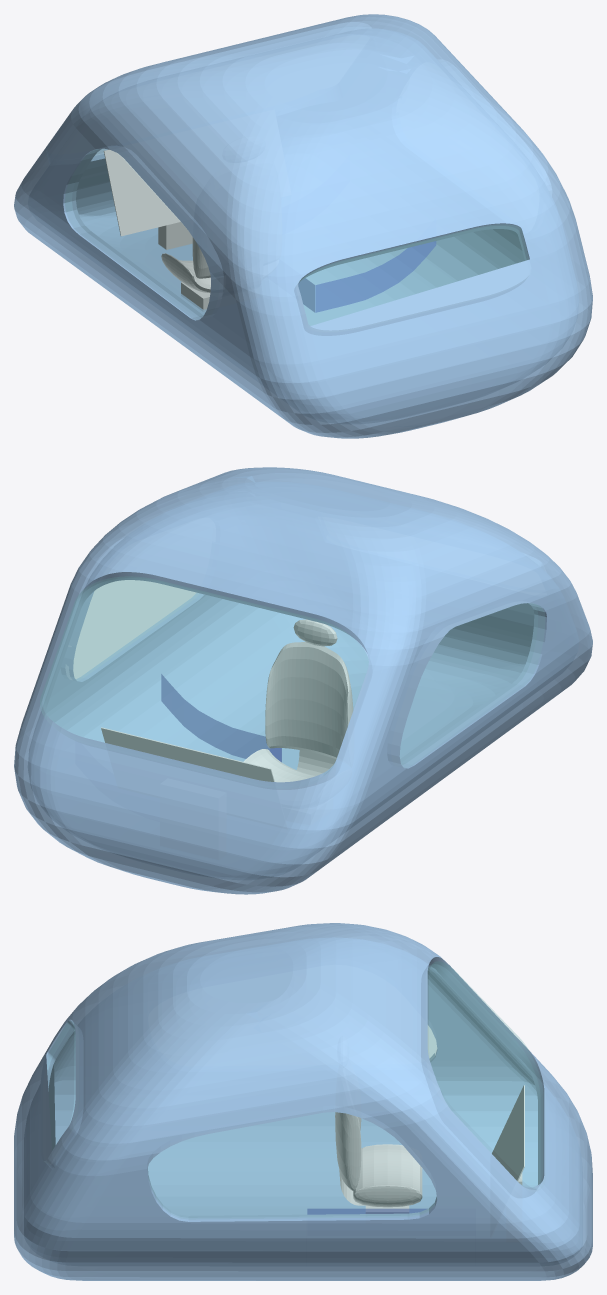
The model's file is капсула9.fbx.
The picture shows the model from 3 angles, top to bottom: view 1: azimuth 30°, elevation 25°; view 2: azimuth 150°, elevation 25°; view 3: azimuth 270°, elevation 25°; orthographic projection. The views are drawn at different scales.
Parts seen in each view (by area): view 1: Circle, Cube.004, Cube.007, Cube.003, Circle.003, Circle.001, Cube.002; view 2: Circle, Cube.006, Cube.004, Circle.002, Cube.005, Circle.003, Cube.003, Circle.001, Cube.001, Plane; view 3: Circle, Cube.005, Cube.006, Circle.001, Cube.007, Circle.002, Cube.003, Circle.004.
Boxes of the visible parts, <box> form: Circle: <box>14,14,592,438</box>; Cube.004: <box>65,149,210,319</box>; Cube.007: <box>298,224,528,325</box>; Cube.003: <box>103,149,180,236</box>; Circle.003: <box>315,241,435,312</box>; Circle.001: <box>161,253,210,292</box>; Cube.002: <box>158,222,192,249</box>; Circle: <box>14,467,592,894</box>; Cube.006: <box>40,576,368,781</box>; Cube.004: <box>400,603,544,767</box>; Circle.002: <box>265,642,353,759</box>; Cube.005: <box>73,580,195,678</box>; Circle.003: <box>161,674,281,761</box>; Cube.003: <box>101,727,274,781</box>; Circle.001: <box>243,749,315,782</box>; Cube.001: <box>293,619,337,646</box>; Plane: <box>297,750,336,775</box>; Circle: <box>14,923,592,1280</box>; Cube.005: <box>148,1112,436,1218</box>; Cube.006: <box>428,961,542,1188</box>; Circle.001: <box>353,1144,422,1207</box>; Cube.007: <box>47,1021,75,1150</box>; Circle.002: <box>335,1112,361,1190</box>; Cube.003: <box>492,1085,524,1181</box>; Circle.004: <box>307,1209,425,1214</box>.
Bounding box in the file's own units: 400 × 315 × 601.
